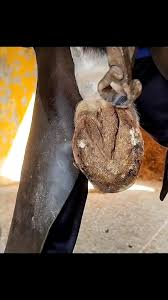horsesole: (72, 110, 143, 193)
